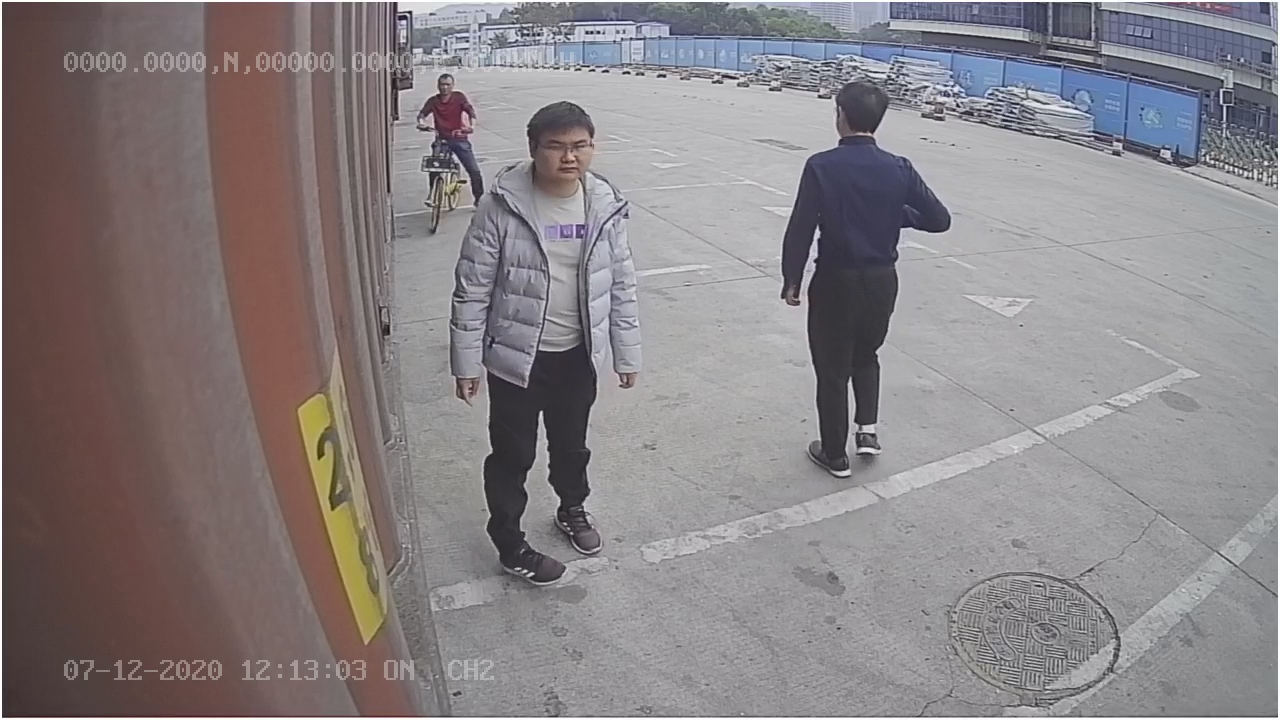person: (779, 73, 952, 478)
